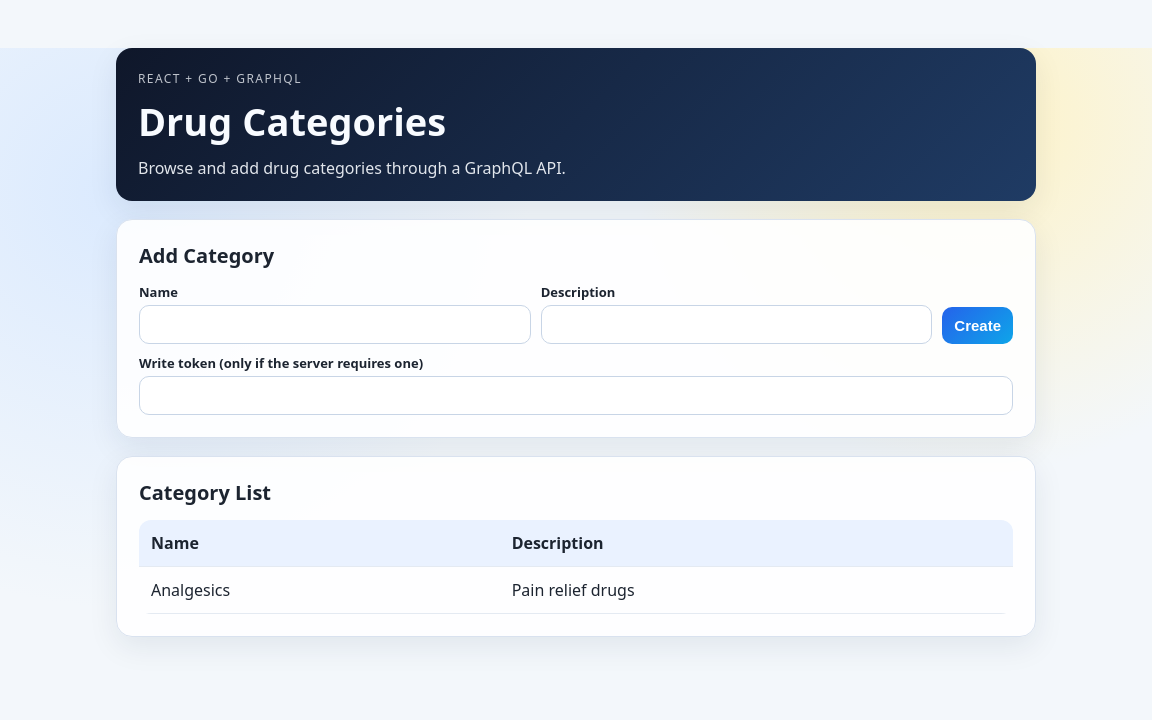
it: App › keeps input and shows the error when creation fails
This screenshot has width=1152, height=720.
Check: the text "Analgesics" is shown, box [139,566,500,614]
Type "Analgesics" into the field labelled "Name" at point(335, 324), box [139,305,531,344]
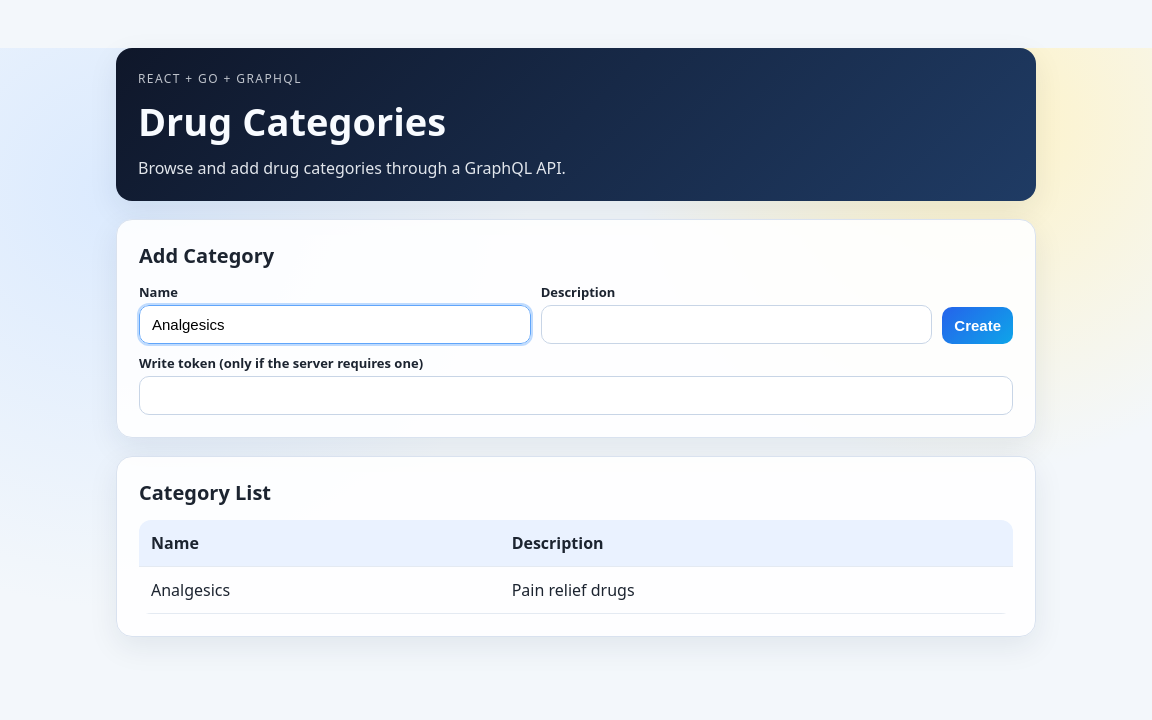
Click the button "Create" at point(978, 326), box [942,307,1013,344]
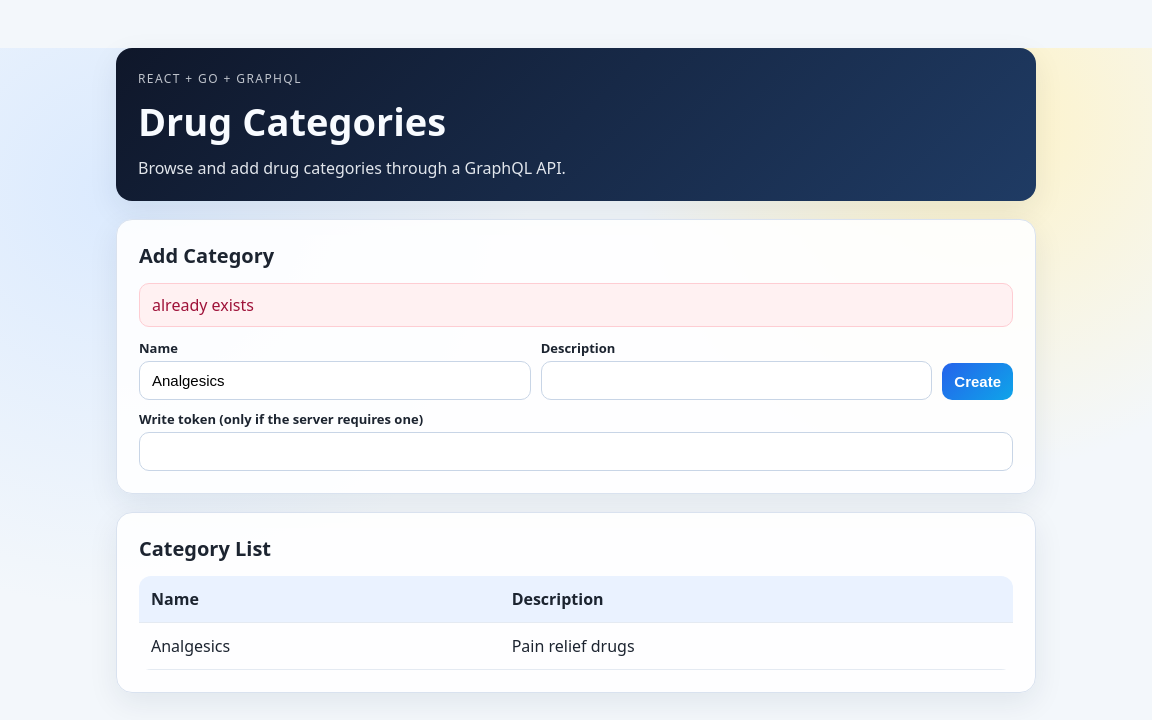
Check: the message reads "already exists", box [152,294,254,316]
